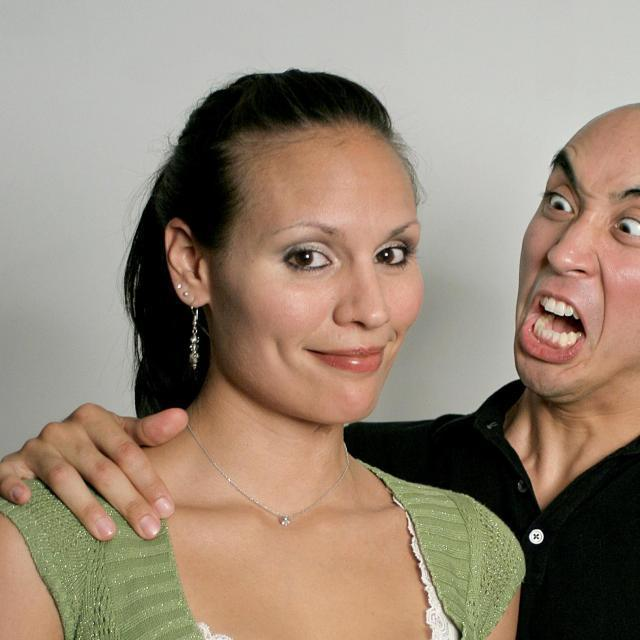open: (268, 219, 342, 282), (375, 217, 426, 280)
